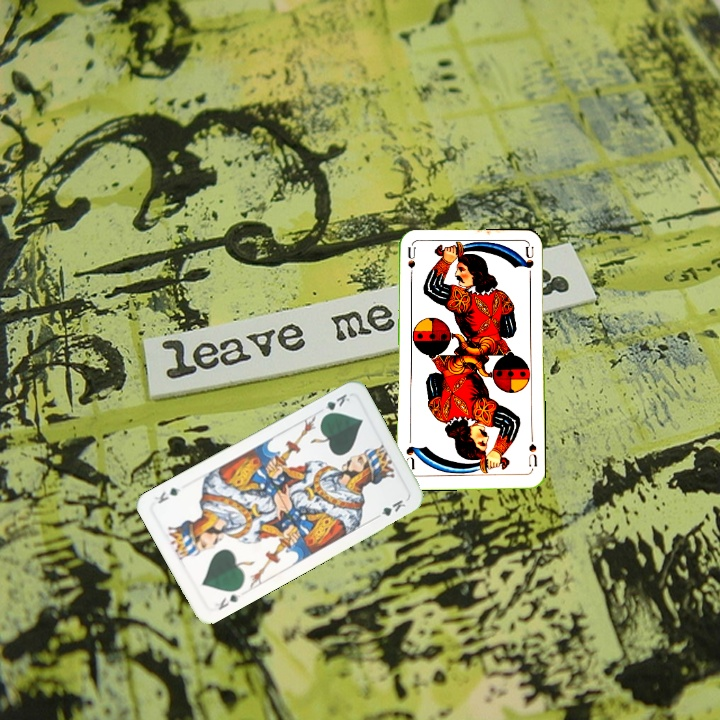GK: (318, 389, 352, 420), (211, 589, 243, 613)
SU: (404, 245, 418, 285), (525, 439, 539, 469)
